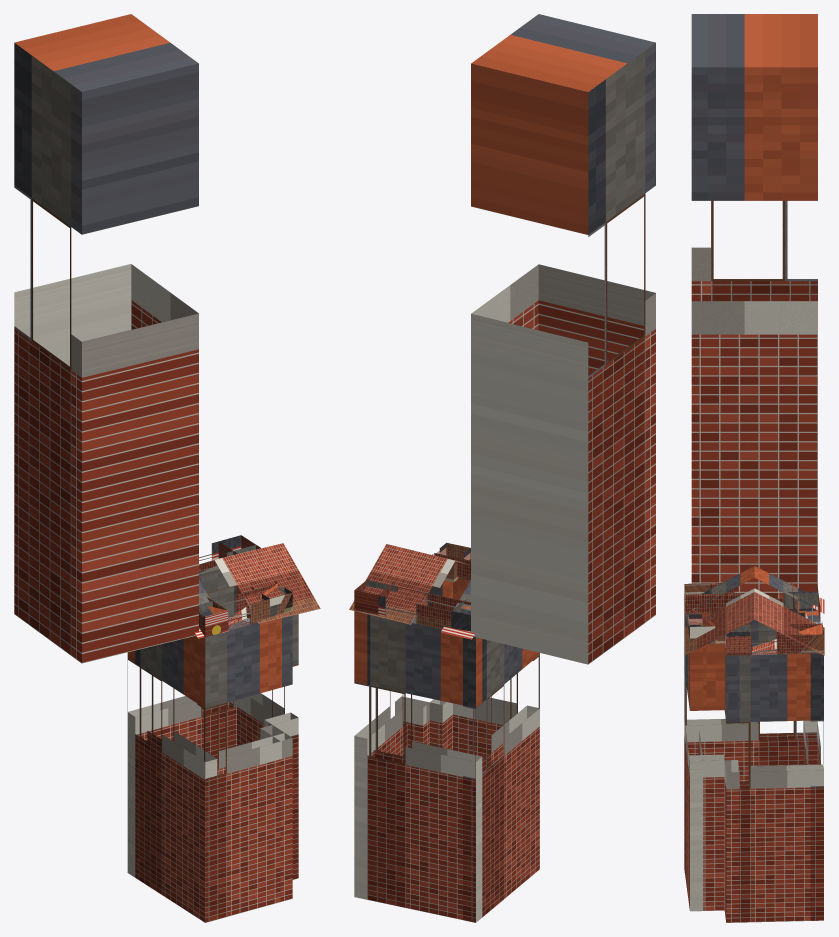
The picture shows the model from 3 angles, left to right: view 1: azimuth 30°, elevation 25°; view 2: azimuth 150°, elevation 25°; view 3: azimuth 270°, elevation 25°; orthographic projection. The views are drawn at different scales.
Visible parts, largest first — view 1: 717953370__chimney_0_xb, 717953370__wall_1_xb, 717953370__wall_0_xb, 717953370__wall_5_xb, 717953370_roof_-1_xb, 717953370__wall_2_xb, 717953370__wall_4_xb, 717953370__cornice_1, 717953370__cornice_5; view 2: 717953370__chimney_0_xb, 717953370__wall_5_xb, 717953370__wall_0_xb, 717953370__wall_4_xb, 717953370_roof_1_xb, 717953370__wall_1_xb, 717953370__cornice_5, 717953370__wall_2_xb, 717953370__wall_3_xb, 717953370__cornice_4, 717953370__cornice_1; view 3: 717953370__chimney_0_xb, 717953370__wall_4_xb, 717953370__wall_0_xb, 717953370__wall_2_xb, 717953370__wall_1_xb, 717953370__wall_3_xb, 717953370__wall_5_xb, 717953370_roof_-1_xb, 717953370_roof_1_xb, 717953370__cornice_4, 717953370__cornice_0, 717953370__cornice_1 (+3 smaller).
Boxes of the visible parts, x1,y1,x2,y2 form: 717953370__chimney_0_xb: (14,14,198,663); 717953370__wall_1_xb: (197,617,284,922); 717953370__wall_0_xb: (127,636,217,922); 717953370__wall_5_xb: (127,565,236,877); 717953370_roof_-1_xb: (194,543,320,638); 717953370__wall_2_xb: (260,615,292,901); 717953370__wall_4_xb: (229,586,298,879); 717953370__cornice_1: (199,583,292,634); 717953370__cornice_5: (199,535,255,576); 717953370__chimney_0_xb: (471,14,655,664); 717953370__wall_5_xb: (354,614,482,922); 717953370__wall_0_xb: (463,637,539,922); 717953370__wall_4_xb: (354,611,407,899); 717953370_roof_1_xb: (349,544,475,639); 717953370__wall_1_xb: (440,578,539,759); 717953370__cornice_5: (366,580,470,629); 717953370__wall_2_xb: (429,580,452,749); 717953370__wall_3_xb: (395,592,429,747); 717953370__cornice_4: (354,576,394,614); 717953370__cornice_1: (434,542,470,580); 717953370__chimney_0_xb: (691,14,817,598); 717953370__wall_4_xb: (725,649,823,922); 717953370__wall_0_xb: (684,611,817,782); 717953370__wall_2_xb: (689,639,724,910); 717953370__wall_1_xb: (684,603,703,911); 717953370__wall_3_xb: (724,645,739,922); 717953370__wall_5_xb: (803,610,823,920); 717953370_roof_-1_xb: (685,566,754,655); 717953370_roof_1_xb: (754,566,824,655); 717953370__cornice_4: (725,623,822,655); 717953370__cornice_0: (684,583,818,613); 717953370__cornice_1: (684,583,715,643).
Bounding box in the file's own units: 0.3016 × 1.05 × 0.1663.
Materials: 1 (1 with a texture image).
